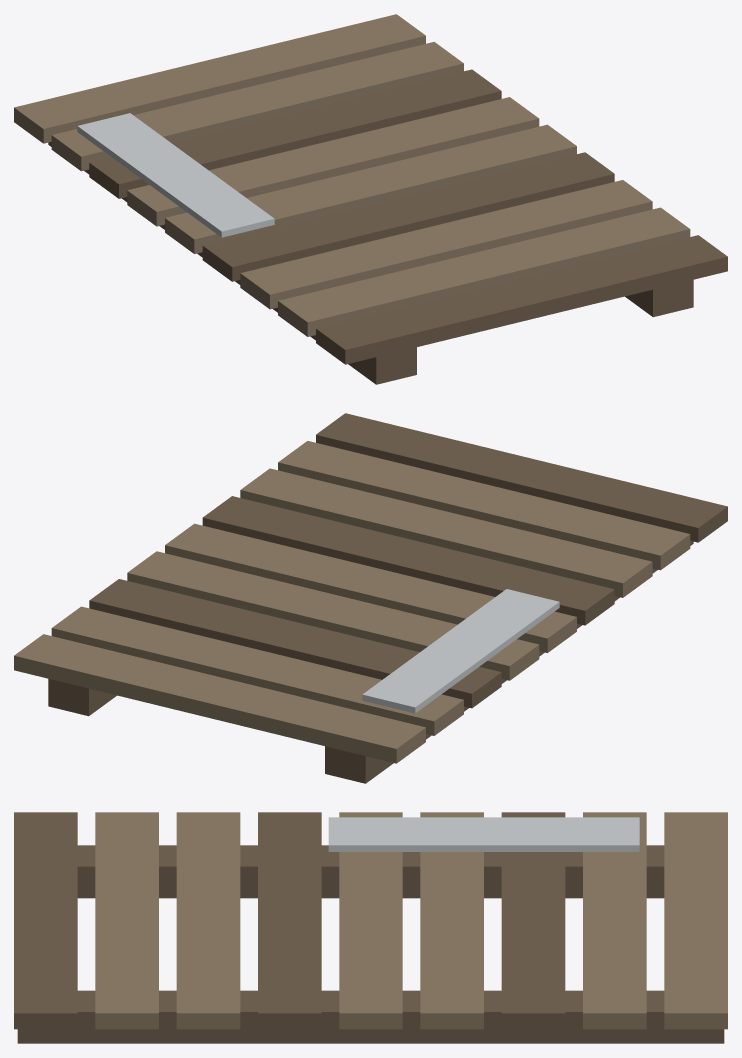
The model's file is plank_bridge.glb.
The picture shows the model from 3 angles, top to bottom: view 1: azimuth 30°, elevation 25°; view 2: azimuth 150°, elevation 25°; view 3: azimuth 270°, elevation 25°; orthographic projection. The views are drawn at different scales.
Visible parts, largest first — view 1: plank_bridge; view 2: plank_bridge; view 3: plank_bridge.
Part boxes in pixels (bbox=[...]): plank_bridge: bbox=[14, 14, 727, 384]; plank_bridge: bbox=[14, 413, 727, 783]; plank_bridge: bbox=[14, 812, 727, 1043].
Bounding box in the file's own units: 1.92 × 0.24 × 2.88.
